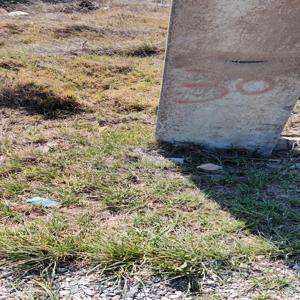plastic: (24, 186, 65, 212), (198, 157, 226, 176)
